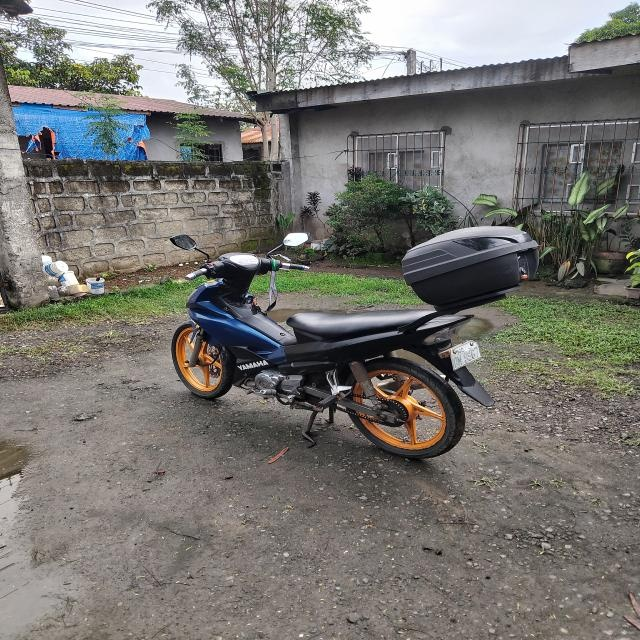Motorcycle: (164, 217, 548, 467)
